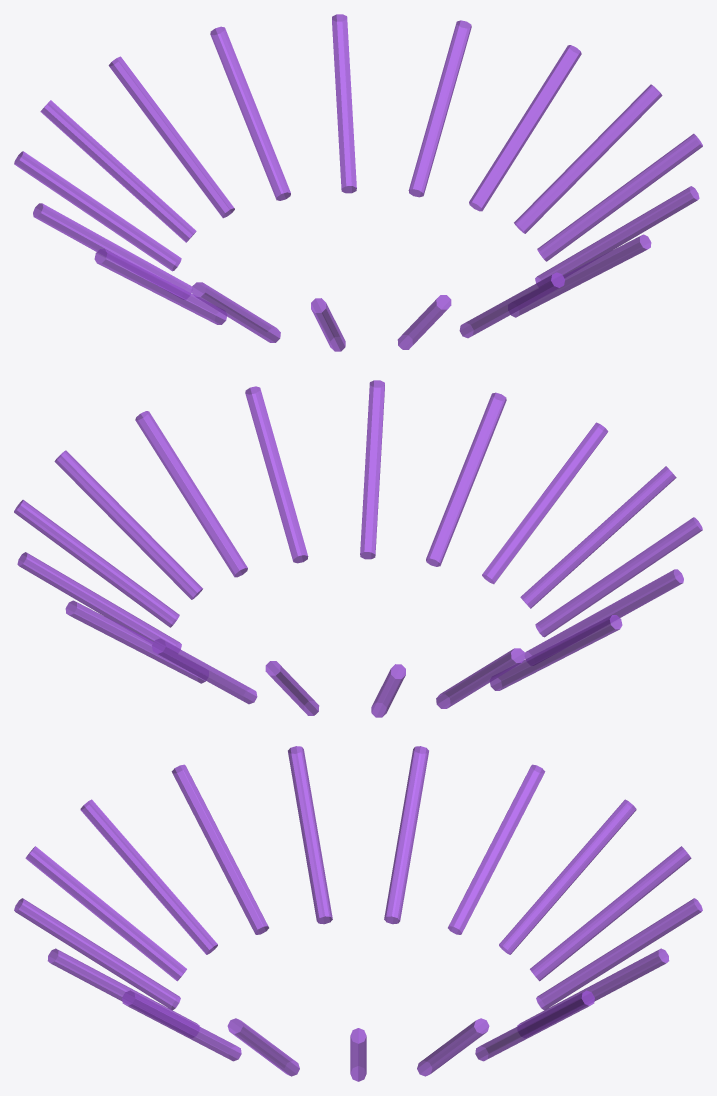
The model's file is 20_L78_CapPlasmaSheathVisualization.fbx.
3 views of the same model, one above another, from view 1: azimuth 30°, elevation 25°; view 2: azimuth 150°, elevation 25°; view 3: azimuth 270°, elevation 25° (orthographic).
Visible parts, largest first — view 1: CapPlasmaSheathVisualization; view 2: CapPlasmaSheathVisualization; view 3: CapPlasmaSheathVisualization.
Part boxes in pixels (left/top/right/bottom): CapPlasmaSheathVisualization: left=14, top=14, right=702, bottom=351; CapPlasmaSheathVisualization: left=14, top=380, right=702, bottom=717; CapPlasmaSheathVisualization: left=14, top=746, right=702, bottom=1081.
Bounding box in the file's own units: 243 × 45.68 × 244.
